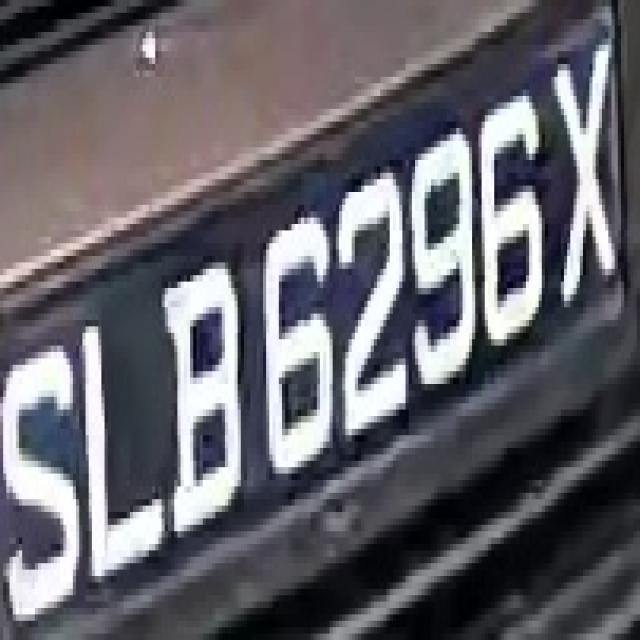2: (326, 180, 415, 454)
6: (472, 84, 545, 358), (256, 218, 332, 480)
9: (399, 134, 478, 422)
B: (162, 269, 247, 544)
L: (79, 294, 171, 557)
S: (10, 339, 79, 634)
X: (558, 38, 627, 320)
